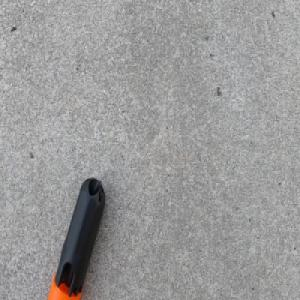PlasticPart: (45, 175, 106, 300)
